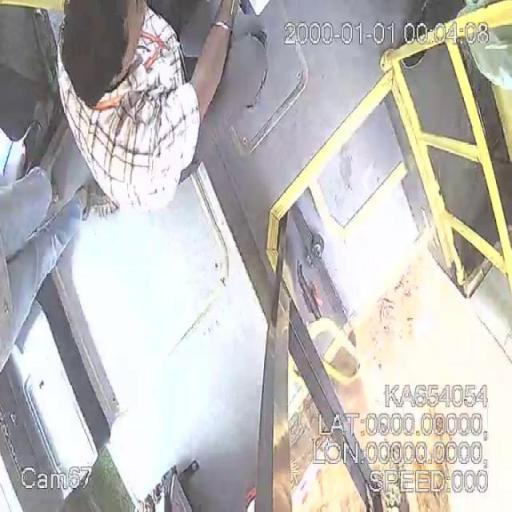persona: (54, 0, 244, 214)
